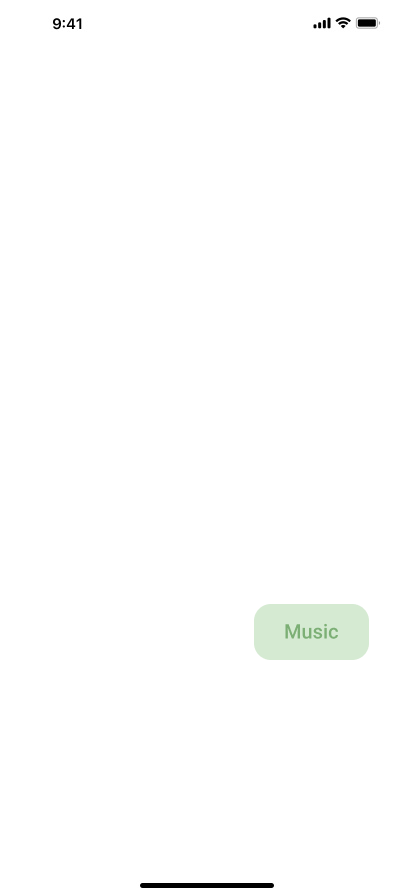Buttons: (254, 604, 377, 660)
Home Indicator: (0, 862, 414, 896)
Status Bar: (0, 0, 414, 44)
